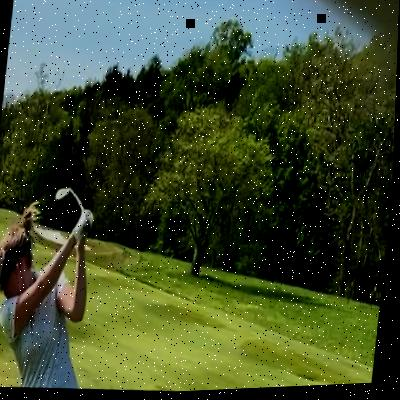GolfBall: (54, 178, 81, 212)
